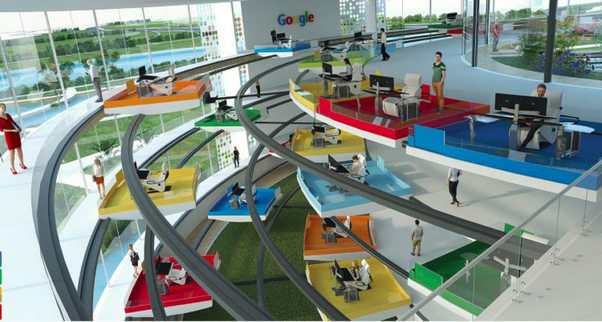google: (274, 5, 322, 29)
